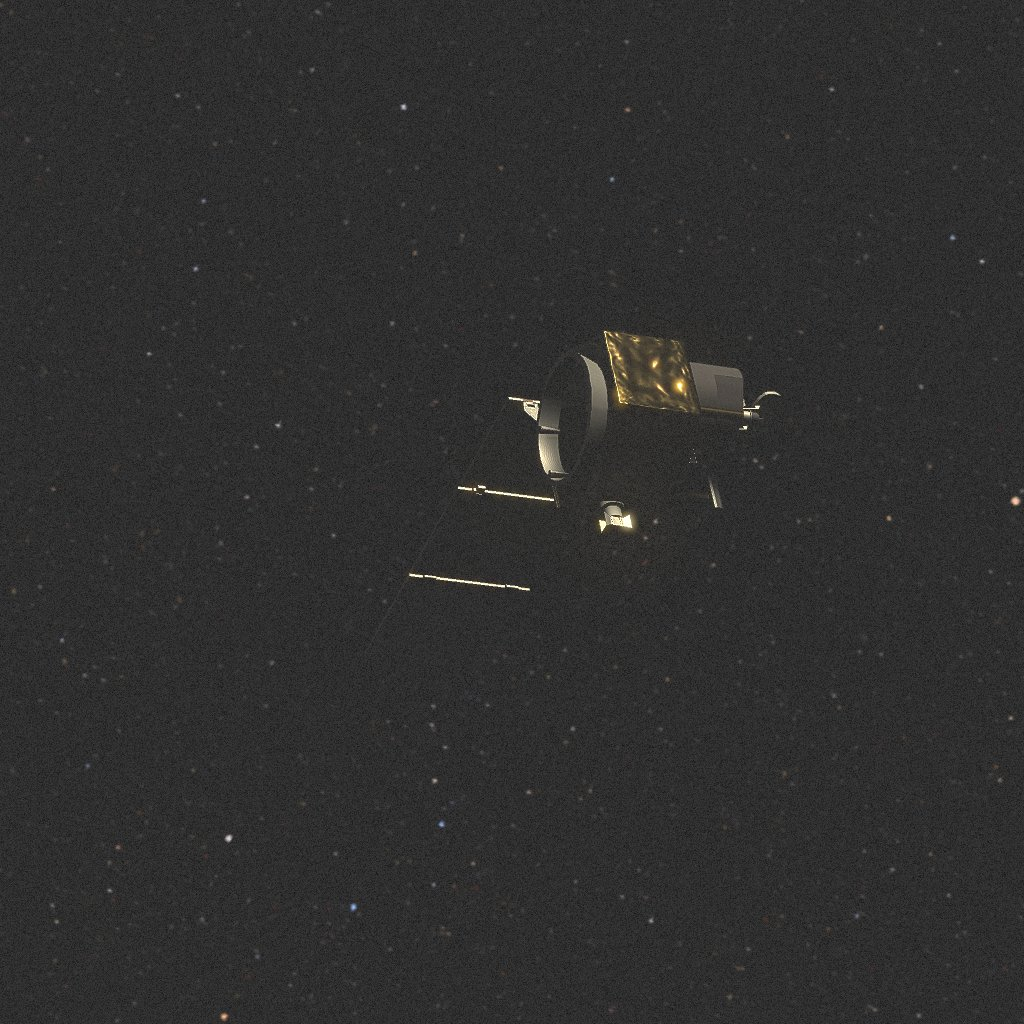earth_observation_sat_1: (363, 330, 782, 671)
